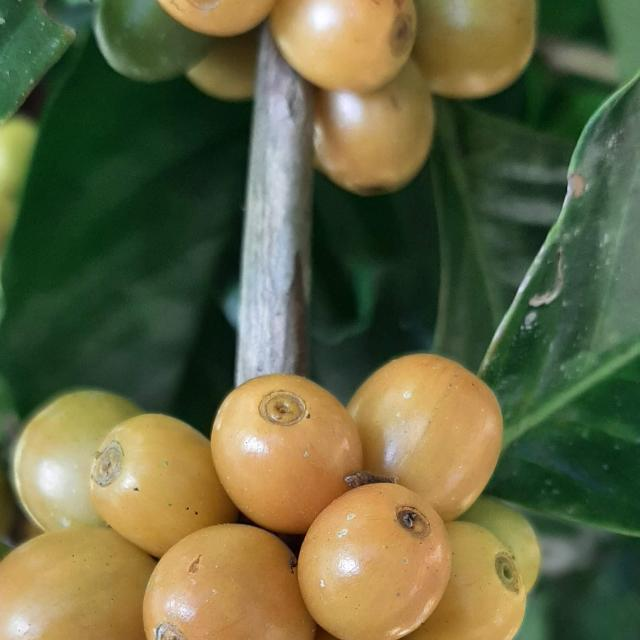green: (93, 0, 212, 81)
red: (348, 354, 503, 521), (211, 374, 363, 535), (298, 484, 452, 640), (143, 525, 316, 640), (269, 0, 417, 92), (157, 0, 276, 36)
yellow: (89, 415, 238, 559), (12, 390, 141, 532), (0, 529, 155, 640), (314, 58, 435, 195), (402, 522, 527, 640), (414, 0, 537, 98), (459, 497, 542, 594), (186, 29, 256, 100)
